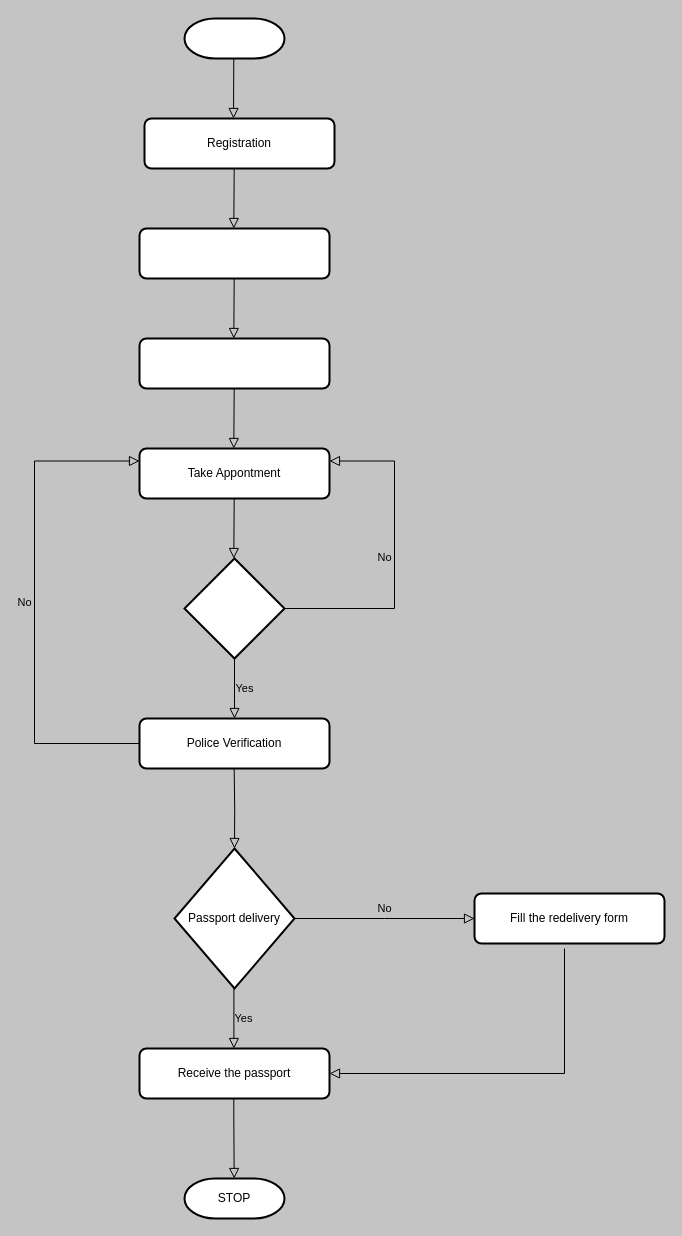
Some shapes in this 682 by 1236 pixel diagram are drawn without their labels. The shapes that lost their labels are listed below. From the top down, each one's centre as x and y in pixels, then its label:
At [234,38]: "START".
At [234,253]: "Login".
At [234,363]: "Payment".
At [234,608]: "Document Verification".
